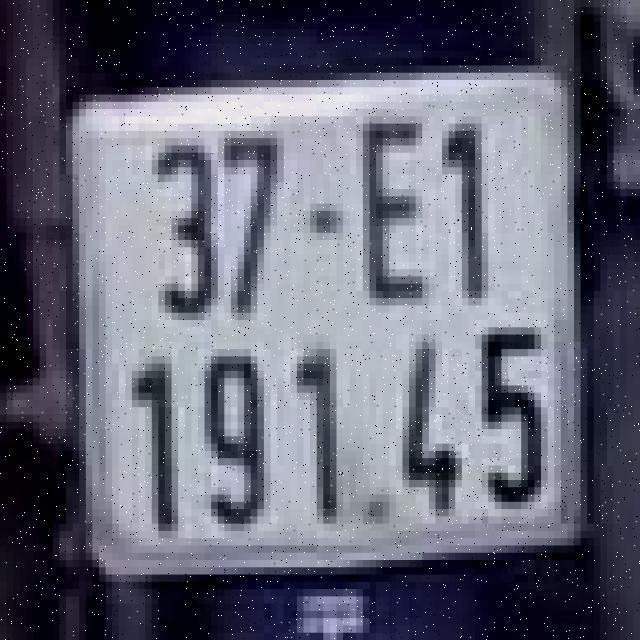1: (274, 320, 366, 553), (126, 331, 192, 534), (439, 113, 505, 302)
3: (148, 127, 221, 331)
4: (389, 328, 468, 516)
5: (475, 312, 567, 524)
7: (218, 124, 290, 327)
9: (194, 346, 280, 549)
E: (350, 98, 442, 309)
